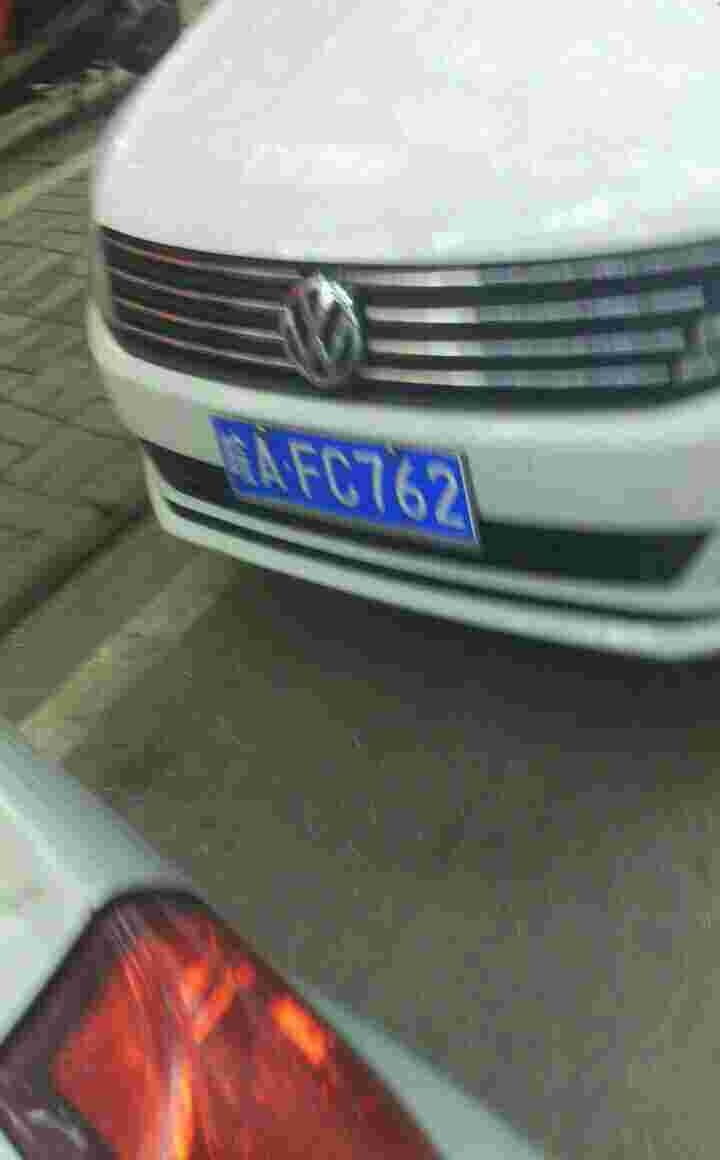license_plate: (215, 419, 477, 541)
